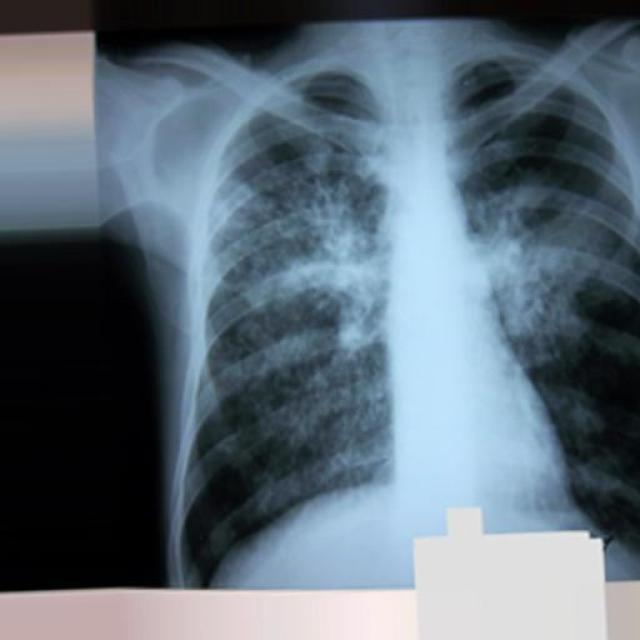tuberculosis: (42, 6, 640, 589)
